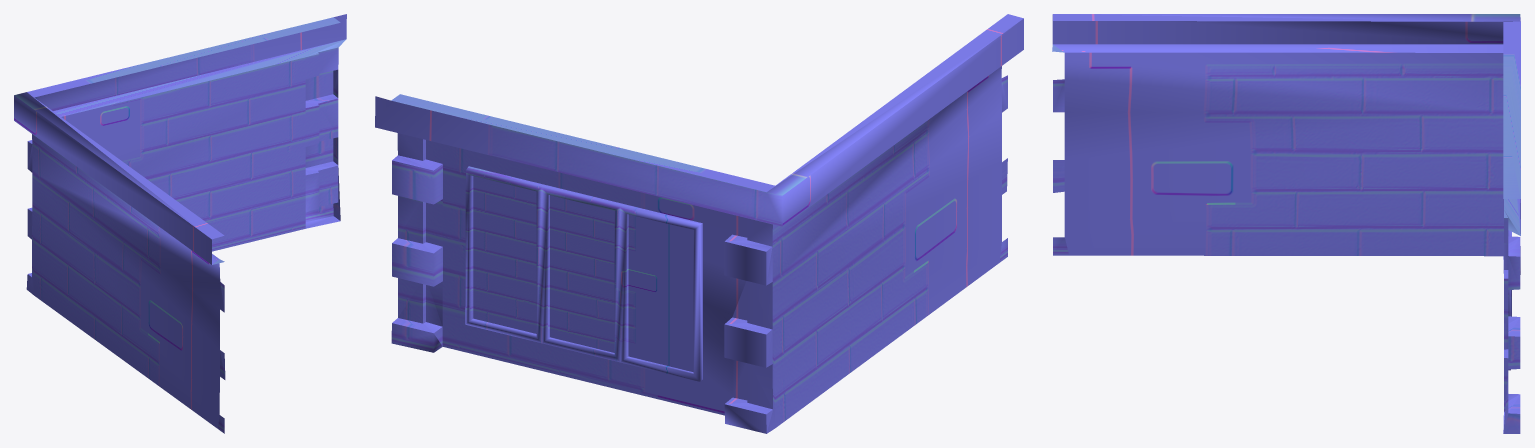
Rendered from righthouseupperfull.fbx.
3 renders of one model, left to right at view 1: azimuth 30°, elevation 25°; view 2: azimuth 150°, elevation 25°; view 3: azimuth 270°, elevation 25°, orthographic. The views are drawn at different scales.
Parts seen in each view (by area): view 1: UpperHouse; view 2: UpperHouse; view 3: UpperHouse.
Boxes of the visible parts, bbox=[...] form: UpperHouse: bbox=[14, 14, 346, 433]; UpperHouse: bbox=[375, 14, 1023, 433]; UpperHouse: bbox=[1052, 14, 1520, 433].
Size of the model in its own units: 131 by 75.19 by 135.
